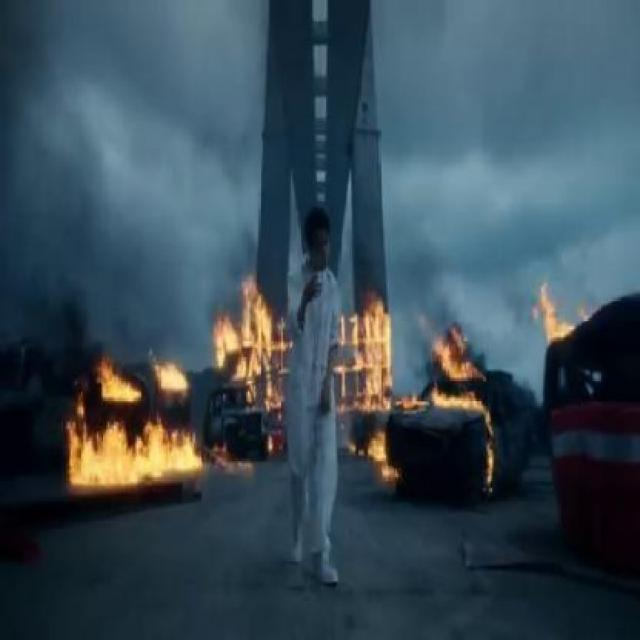fire: (66, 403, 197, 482), (228, 290, 284, 378), (340, 305, 389, 398), (534, 284, 578, 346)
smoke: (4, 31, 101, 387), (193, 108, 264, 306), (382, 183, 449, 349), (497, 195, 591, 300), (110, 227, 186, 356)
